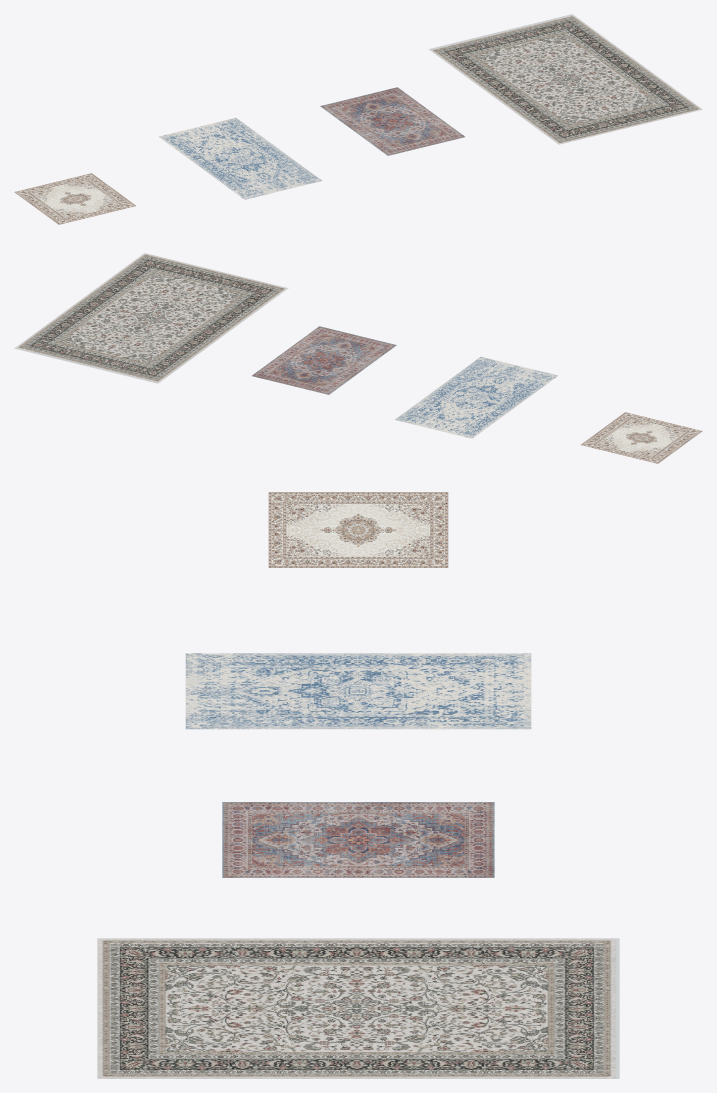
Rendered from carpets.glb.
The picture shows the model from 3 angles, top to bottom: view 1: azimuth 30°, elevation 25°; view 2: azimuth 150°, elevation 25°; view 3: azimuth 270°, elevation 25°; orthographic projection. The views are drawn at different scales.
Visible parts, largest first — view 1: Plane.002, Plane, Plane.001, Plane.003; view 2: Plane.002, Plane, Plane.001, Plane.003; view 3: Plane.002, Plane, Plane.001, Plane.003.
Boxes of the visible parts, x1=… form: Plane.002: x1=428, y1=14, x2=702, y2=144; Plane: x1=159, y1=117, x2=322, y2=199; Plane.001: x1=320, y1=87, x2=464, y2=155; Plane.003: x1=14, y1=173, x2=135, y2=224; Plane.002: x1=14, y1=253, x2=288, y2=383; Plane: x1=394, y1=356, x2=557, y2=438; Plane.001: x1=252, y1=326, x2=396, y2=394; Plane.003: x1=581, y1=412, x2=702, y2=463; Plane.002: x1=97, y1=938, x2=619, y2=1078; Plane: x1=185, y1=653, x2=531, y2=729; Plane.001: x1=222, y1=802, x2=494, y2=877; Plane.003: x1=268, y1=492, x2=448, y2=567.
Bounding box in the file's own units: 15.46 × 0 × 5.82.
Materials: 4 (4 with a texture image).
